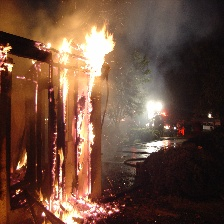fire: (36, 23, 119, 222), (1, 39, 17, 73), (13, 148, 27, 172), (13, 188, 21, 198)
smoke: (122, 1, 208, 55)
